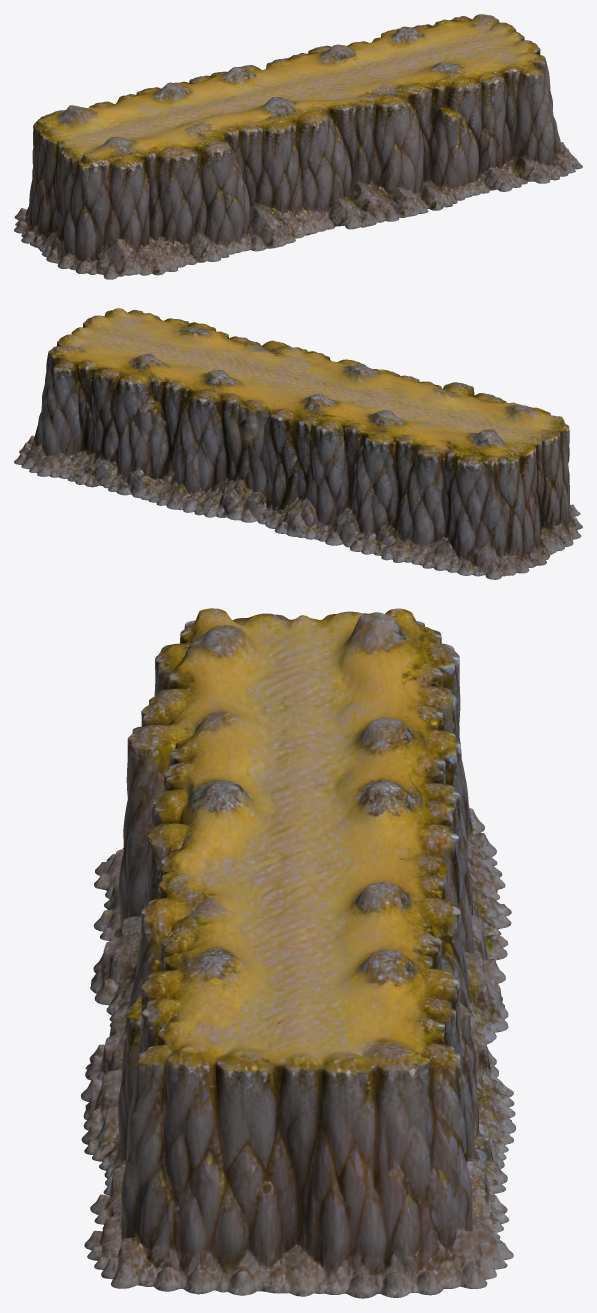
File: cliff_wall.glb
3 renders of one model, top to bottom at view 1: azimuth 30°, elevation 25°; view 2: azimuth 150°, elevation 25°; view 3: azimuth 270°, elevation 25°, orthographic. The views are drawn at different scales.
Parts seen in each view (by area): view 1: material; view 2: material; view 3: material.
Part boxes in pixels (bbox=[...]): material: bbox=[14, 14, 582, 279]; material: bbox=[14, 308, 582, 579]; material: bbox=[81, 608, 515, 1298].
Size of the model in its own units: 1.16 by 0.2602 by 0.4288.
Materials: 1 (1 with a texture image).
